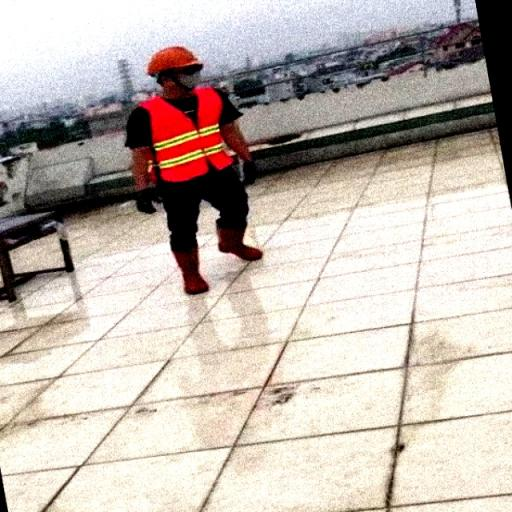Person: (94, 0, 304, 309)
boots: (174, 238, 213, 299)
gloves: (241, 148, 266, 186), (132, 194, 162, 216)
goggles: (165, 64, 211, 78)
helmet: (150, 40, 216, 73)
vest: (148, 82, 235, 180)
